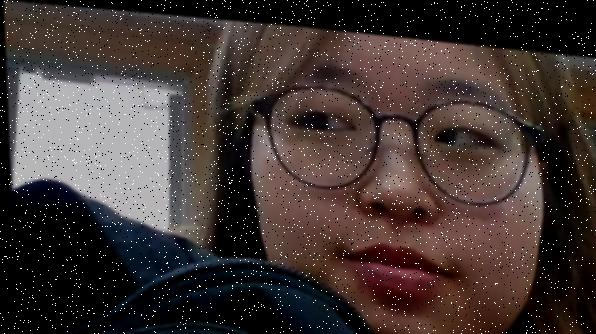eye: (431, 118, 453, 139), (301, 105, 323, 125)
iris: (289, 104, 354, 127), (430, 117, 490, 140)
